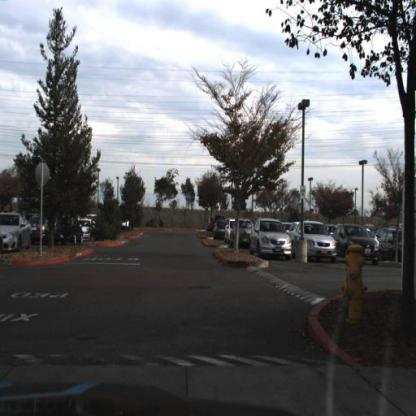car: (334, 222, 381, 262), (249, 217, 292, 258), (294, 221, 336, 261), (1, 211, 33, 255), (380, 227, 415, 265), (2, 213, 32, 256), (55, 216, 86, 245), (229, 219, 253, 249), (231, 220, 256, 248), (29, 216, 50, 246), (32, 217, 48, 247), (79, 218, 96, 243), (213, 220, 228, 243), (224, 216, 235, 244), (214, 224, 226, 242), (82, 223, 92, 243)
